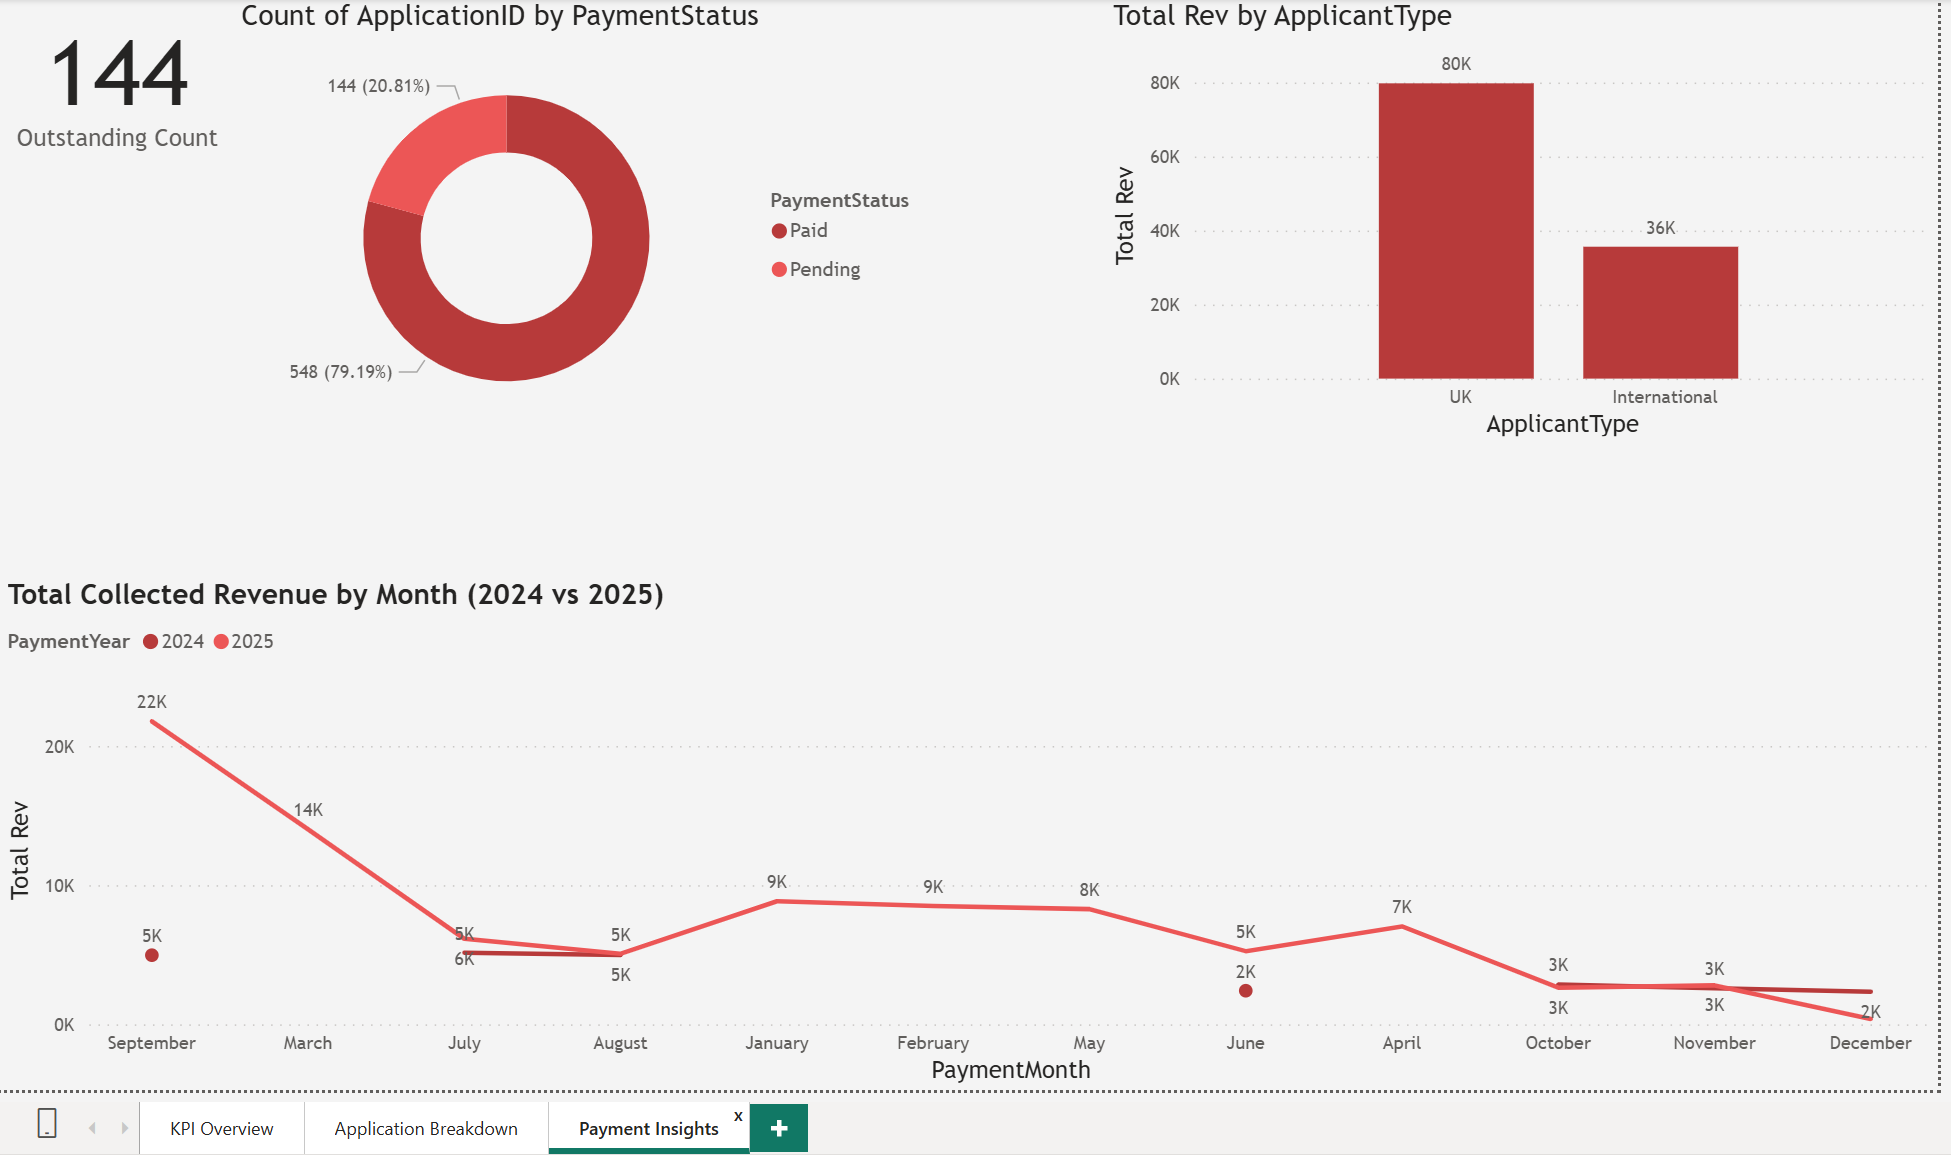

What the dashboard file says about the page in this screenshot:
{"tool":"powerbi","page":{"name":"Payment Insights","canvas":[1280,720],"ordinal":2},"visuals":[{"type":"card","fields":{"Values":["GOC Draft 1.Outstanding Count"]},"box":[0,0,154.4,106.5],"z":0},{"type":"donutChart","fields":{"Category":["GOC Draft 1.PaymentStatus"],"Y":["CountNonNull(GOC Draft 1.ApplicationID)"]},"box":[154.8,0,470.1,294],"z":1},{"type":"clusteredColumnChart","fields":{"Category":["GOC Draft 1.ApplicantType"],"Y":["GOC Draft 1.Total Rev"]},"box":[729.9,0,549.6,294],"z":2},{"type":"lineChart","title":"Total Collected Revenue by Month (2024 vs 2025)","fields":{"Category":["GOC Draft 1.PaymentMonth"],"Y":["GOC Draft 1.Total Rev"],"Series":["GOC Draft 1.PaymentYear"]},"box":[0,382,1281.2,338],"z":3}]}

Visuals, with their boxes on the page's 1280x720 design canvas (x1, y1, x2, y2). These are canvas units, not pixel positions in the 1951x1155 screenshot, which may show the page scaled, cropped or inside an application window:
card - GOC Draft 1.Outstanding Count: 0, 0, 154, 106
donutChart - GOC Draft 1.PaymentStatus x CountNonNull(GOC Draft 1.ApplicationID): 155, 0, 625, 294
clusteredColumnChart - GOC Draft 1.ApplicantType x GOC Draft 1.Total Rev: 730, 0, 1280, 294
"Total Collected Revenue by Month (2024 vs 2025)" lineChart: 0, 382, 1281, 720
